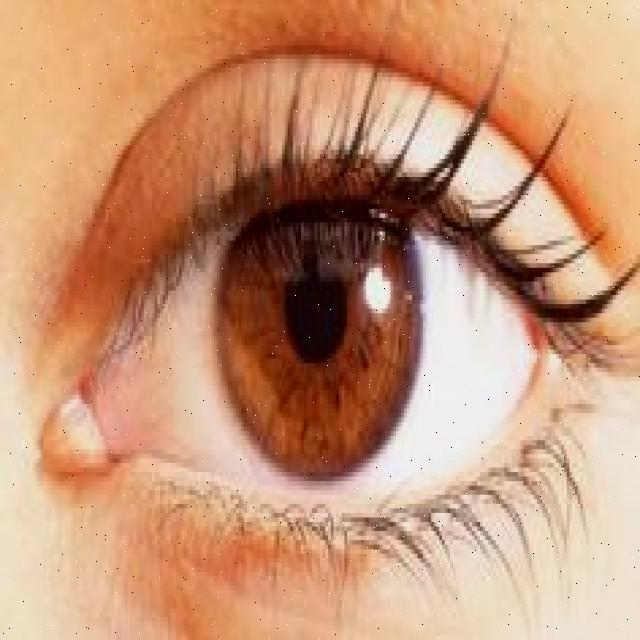Normal: (2, 0, 638, 631)
